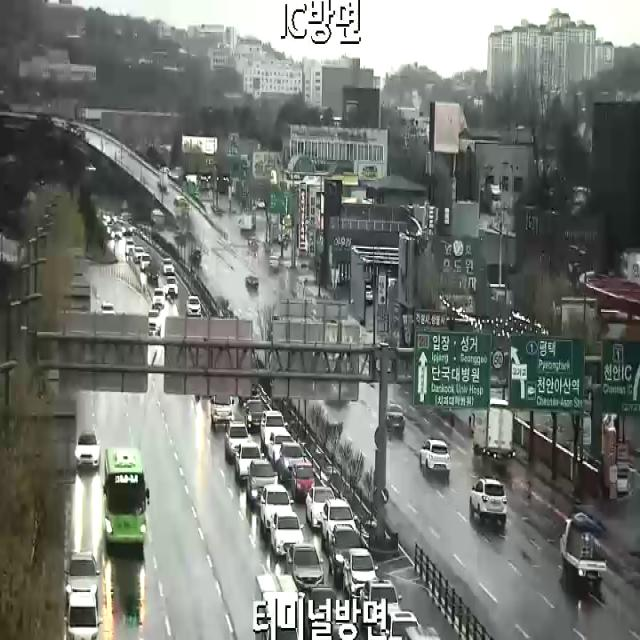Bus: (102, 448, 150, 543)
Car: (361, 581, 401, 634), (304, 588, 344, 640), (65, 552, 100, 607), (63, 592, 103, 640), (343, 548, 379, 598), (329, 525, 365, 574), (287, 544, 325, 590), (470, 478, 507, 524), (322, 500, 358, 544), (259, 484, 294, 528), (271, 511, 304, 555), (246, 460, 278, 499), (306, 486, 336, 526), (277, 444, 305, 481), (386, 611, 421, 640), (420, 439, 451, 471), (235, 444, 264, 478), (225, 422, 252, 457), (292, 462, 315, 501), (76, 433, 101, 468), (268, 432, 292, 464), (245, 401, 266, 430), (386, 404, 405, 431), (402, 627, 440, 640), (147, 310, 161, 334), (187, 296, 200, 315), (166, 276, 178, 295), (153, 289, 164, 307), (163, 258, 174, 274), (141, 254, 152, 269), (365, 284, 373, 304), (246, 276, 259, 288), (147, 268, 158, 282), (134, 246, 144, 261), (101, 303, 114, 314), (126, 239, 134, 254), (271, 256, 279, 269)
Truck: (560, 512, 606, 580), (254, 574, 299, 640), (469, 398, 514, 458), (261, 410, 287, 450), (210, 394, 234, 424)
